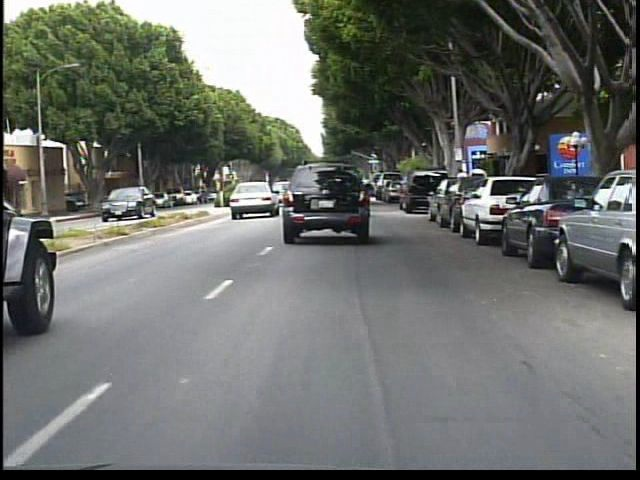person: (470, 165, 488, 205), (453, 166, 469, 202), (105, 188, 122, 214)
